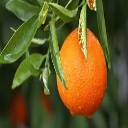orange: (53, 17, 110, 121)
